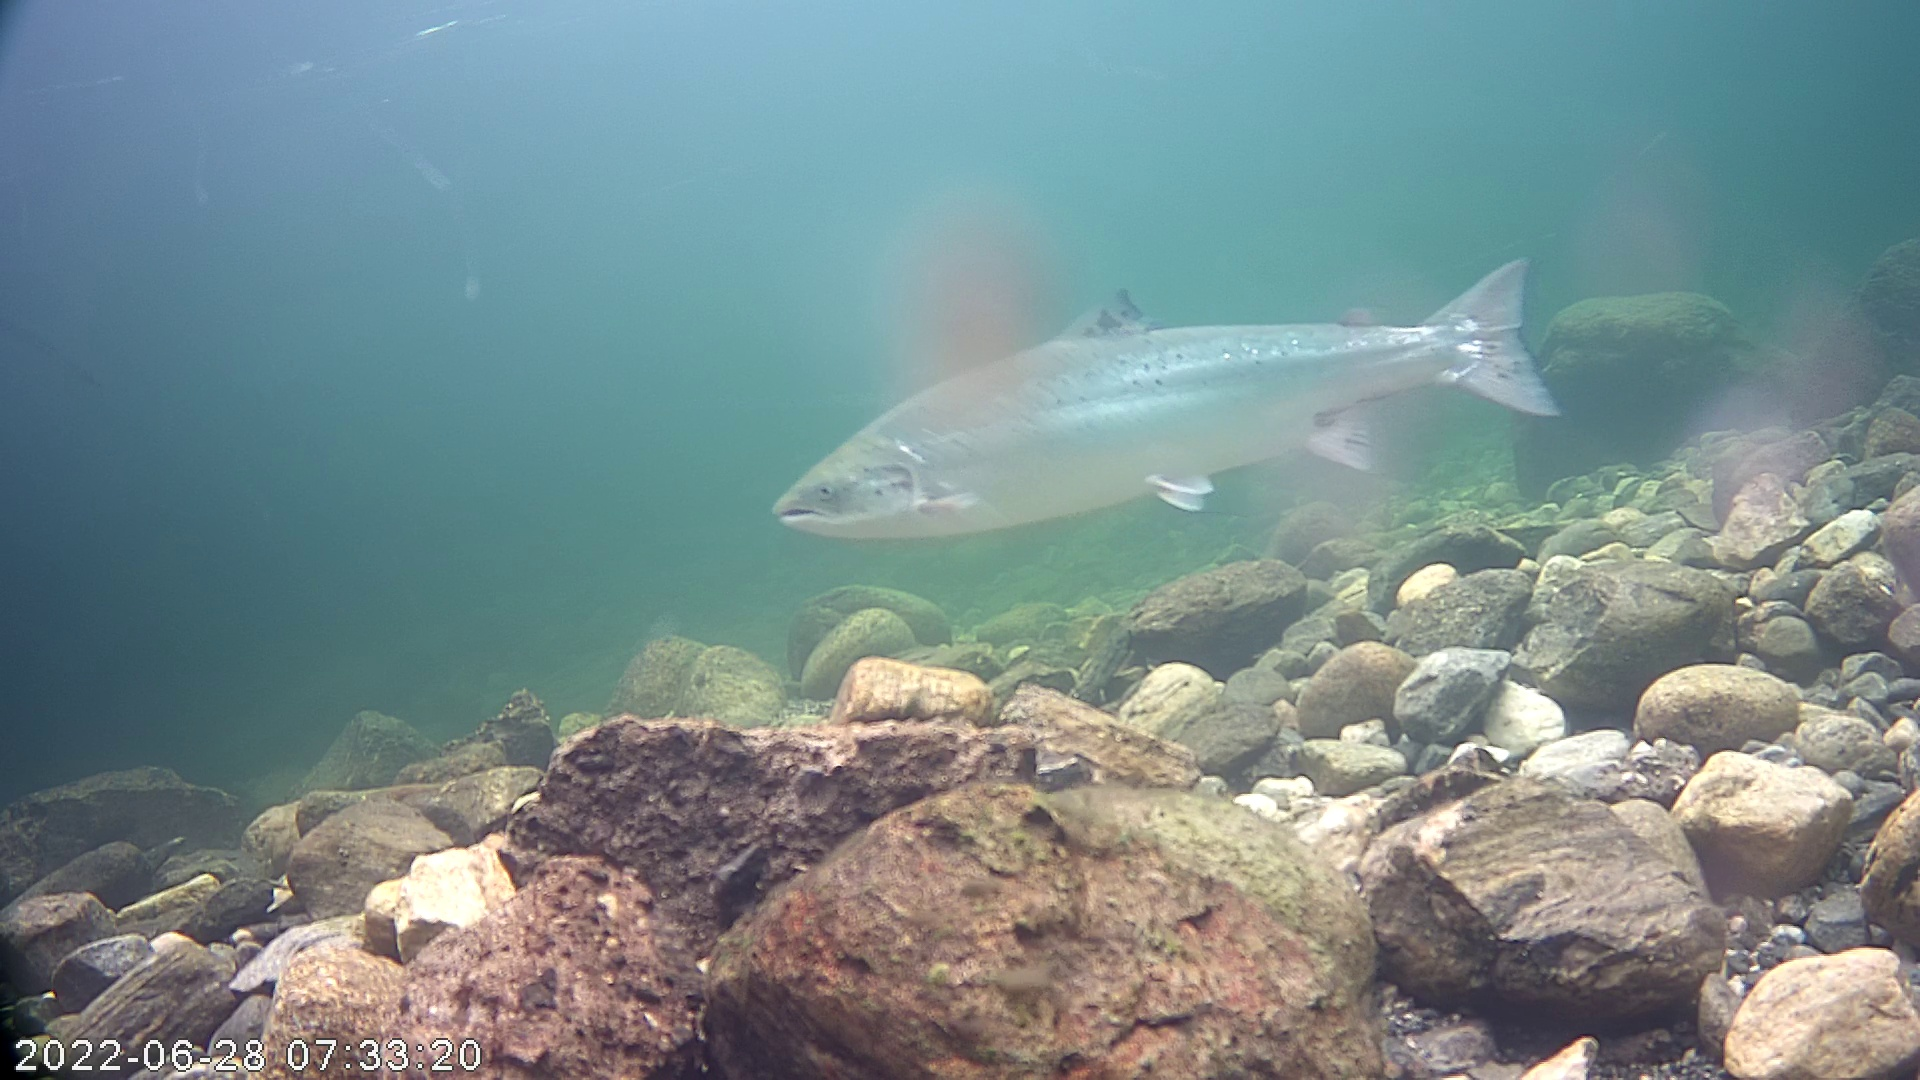salmon: (760, 182, 1600, 603)
